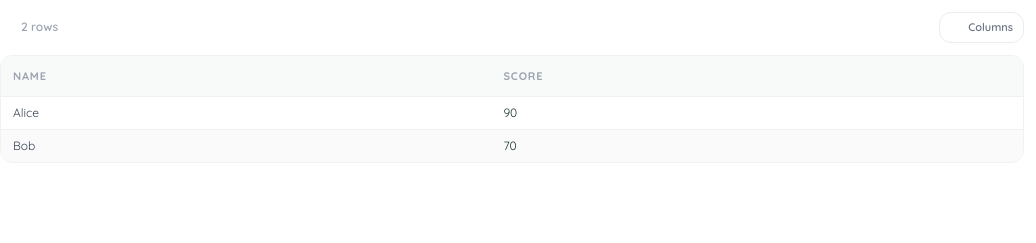
ReportResultTable component › opens column menu when Columns button is clicked
Click the button with aria-label "Show/hide columns". click: (982, 27)
box: x1=939 y1=12 x2=1024 y2=42
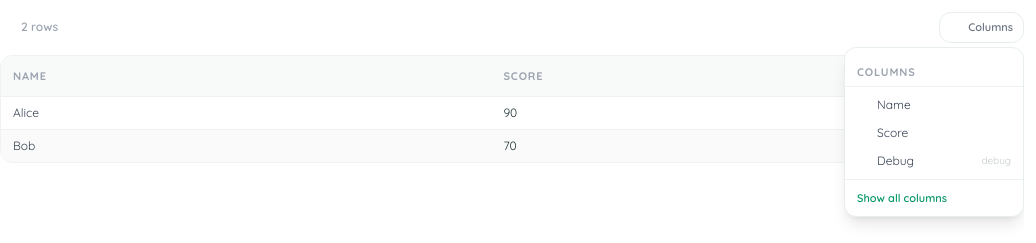
Expected: the menu named "column visibility" is shown, x1=844 y1=46 x2=1024 y2=217
